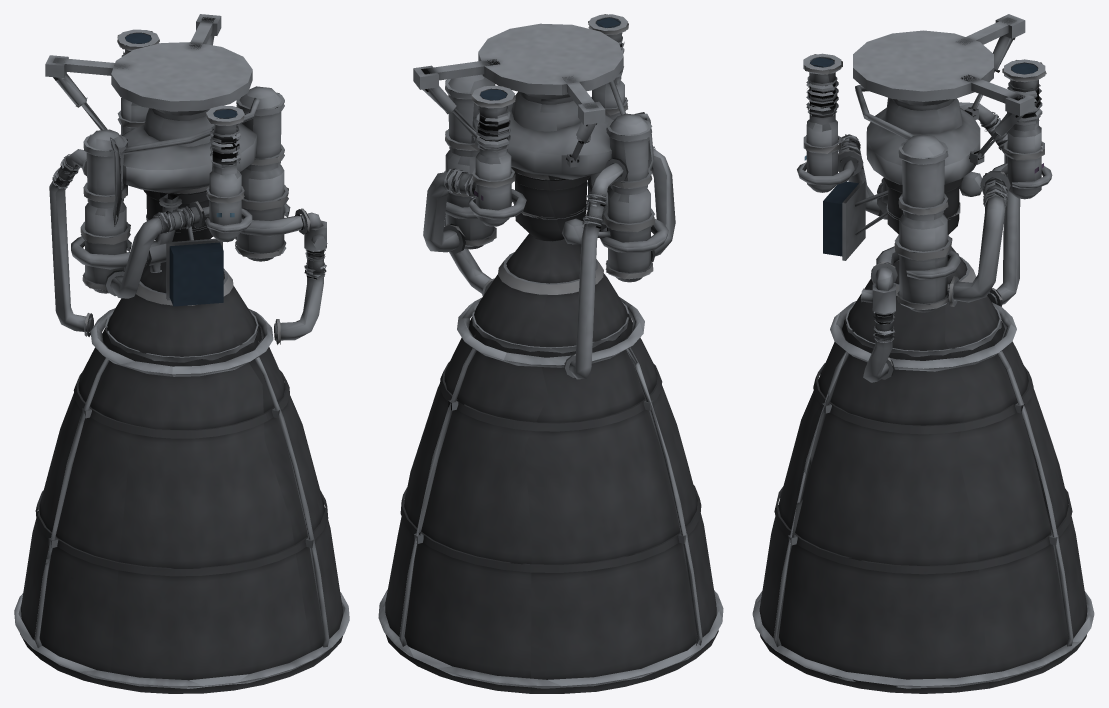
The model's file is eng_hydrolox_high_efficiency.glb.
The picture shows the model from 3 angles, left to right: view 1: azimuth 30°, elevation 25°; view 2: azimuth 150°, elevation 25°; view 3: azimuth 270°, elevation 25°; orthographic projection. The views are drawn at different scales.
Visible parts, largest first — view 1: eng_hydrolox_high_efficiency_mesh; view 2: eng_hydrolox_high_efficiency_mesh; view 3: eng_hydrolox_high_efficiency_mesh.
Boxes of the visible parts, box(x1,y1,x2,y2) form: eng_hydrolox_high_efficiency_mesh: box(14, 14, 349, 693); eng_hydrolox_high_efficiency_mesh: box(378, 14, 723, 693); eng_hydrolox_high_efficiency_mesh: box(752, 14, 1094, 693).
Size of the model in its own units: 2.38 by 4.3 by 2.37.
1 material, 1 textured.
